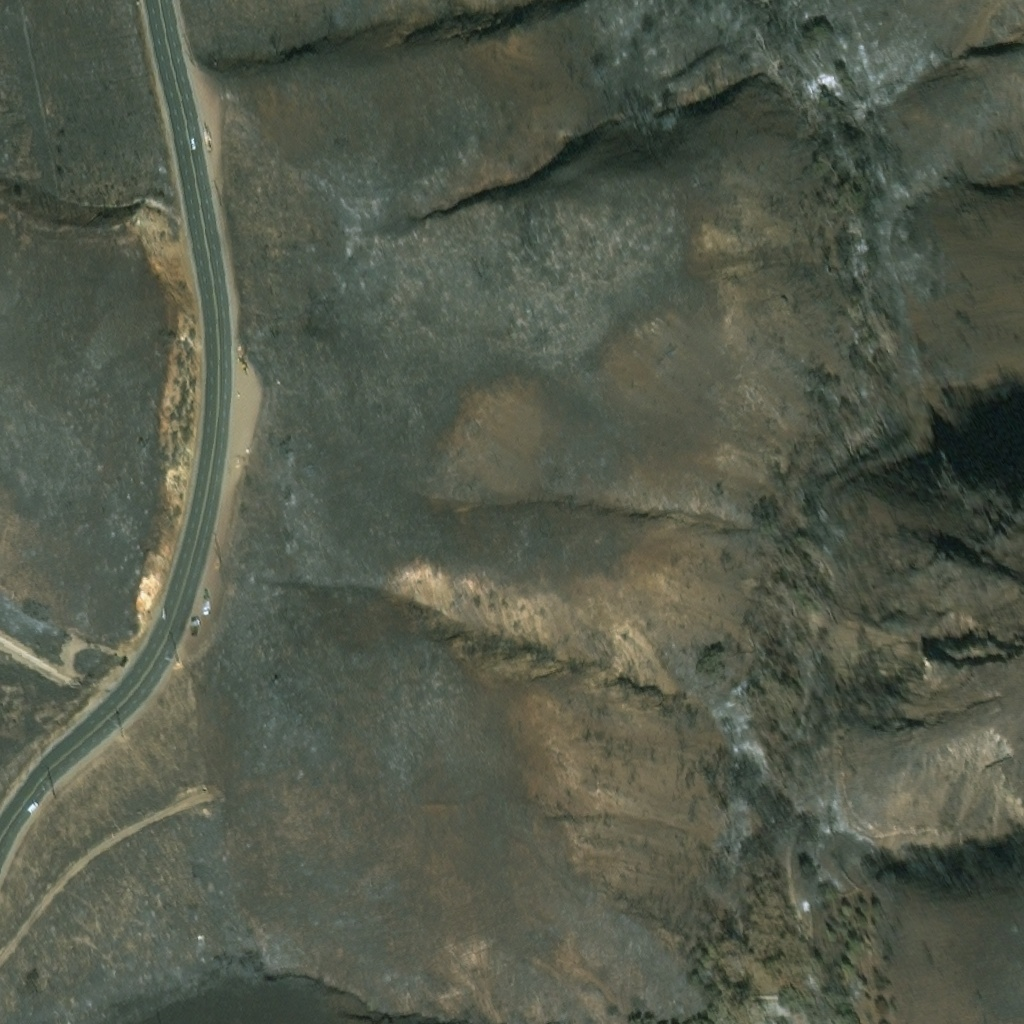3 destroyed: (746, 993, 785, 1016), (788, 1001, 808, 1023)
